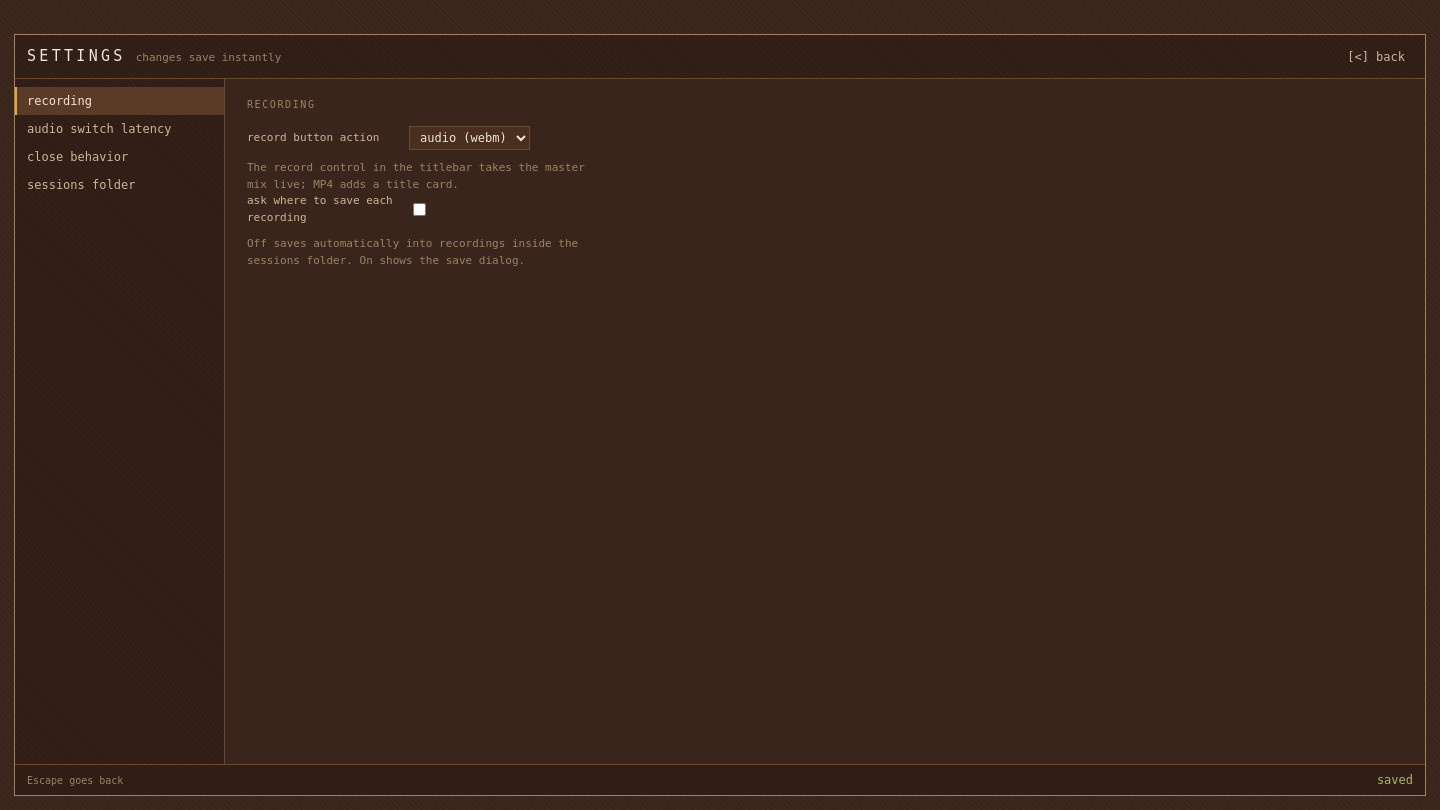
Test: SettingsPage › shows each section from its sidebar category
What coordinates should you click on to do the following:
click the button "audio switch latency"
I would click on:
 (120, 129)
Its box is [15,115,224,143].
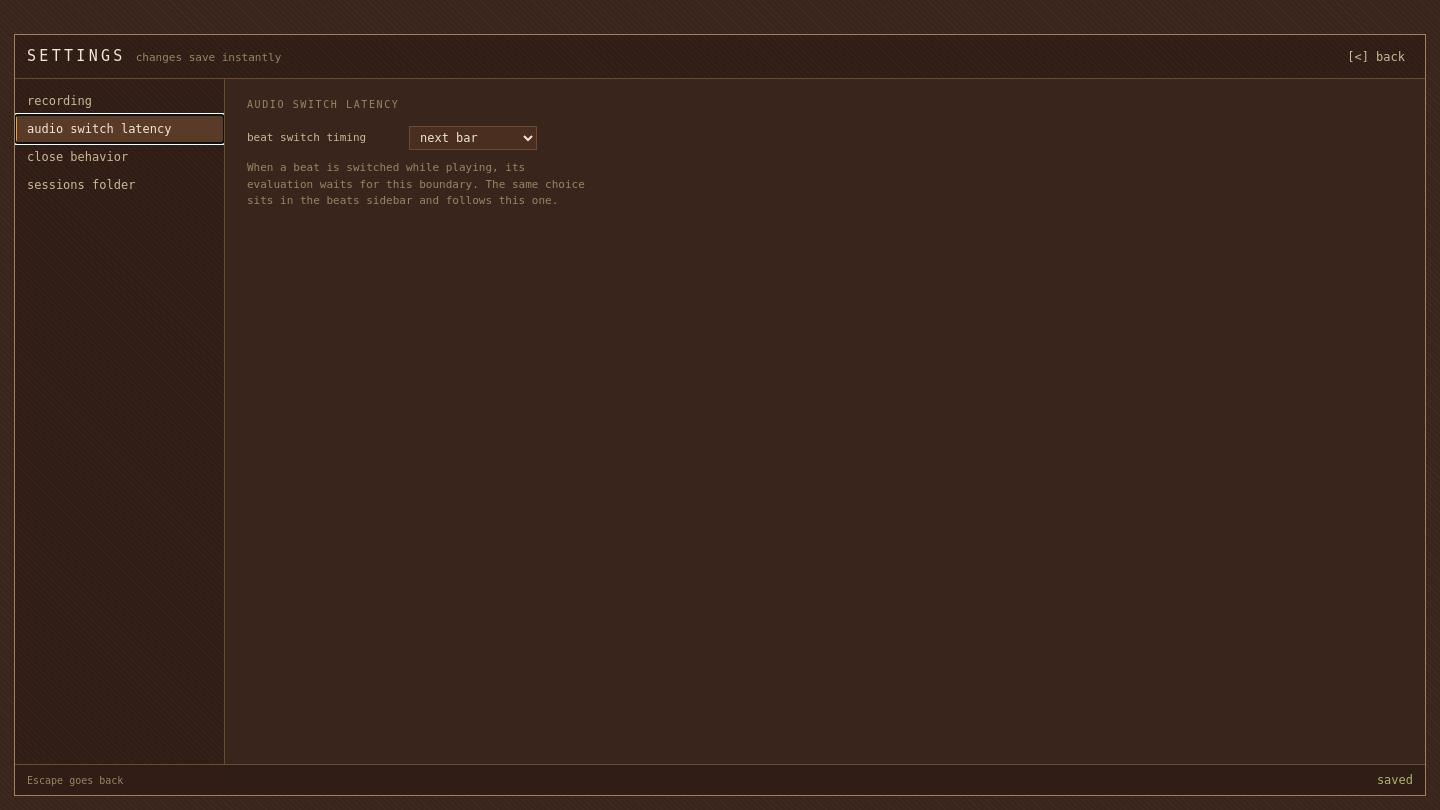
Result: the dropdown labelled "beat switch timing" is shown at [409,126,537,150]
What coordinates should you click on to do the following:
click the button "close behavior"
I would click on:
 (120, 157)
Its box is [15,143,224,171].
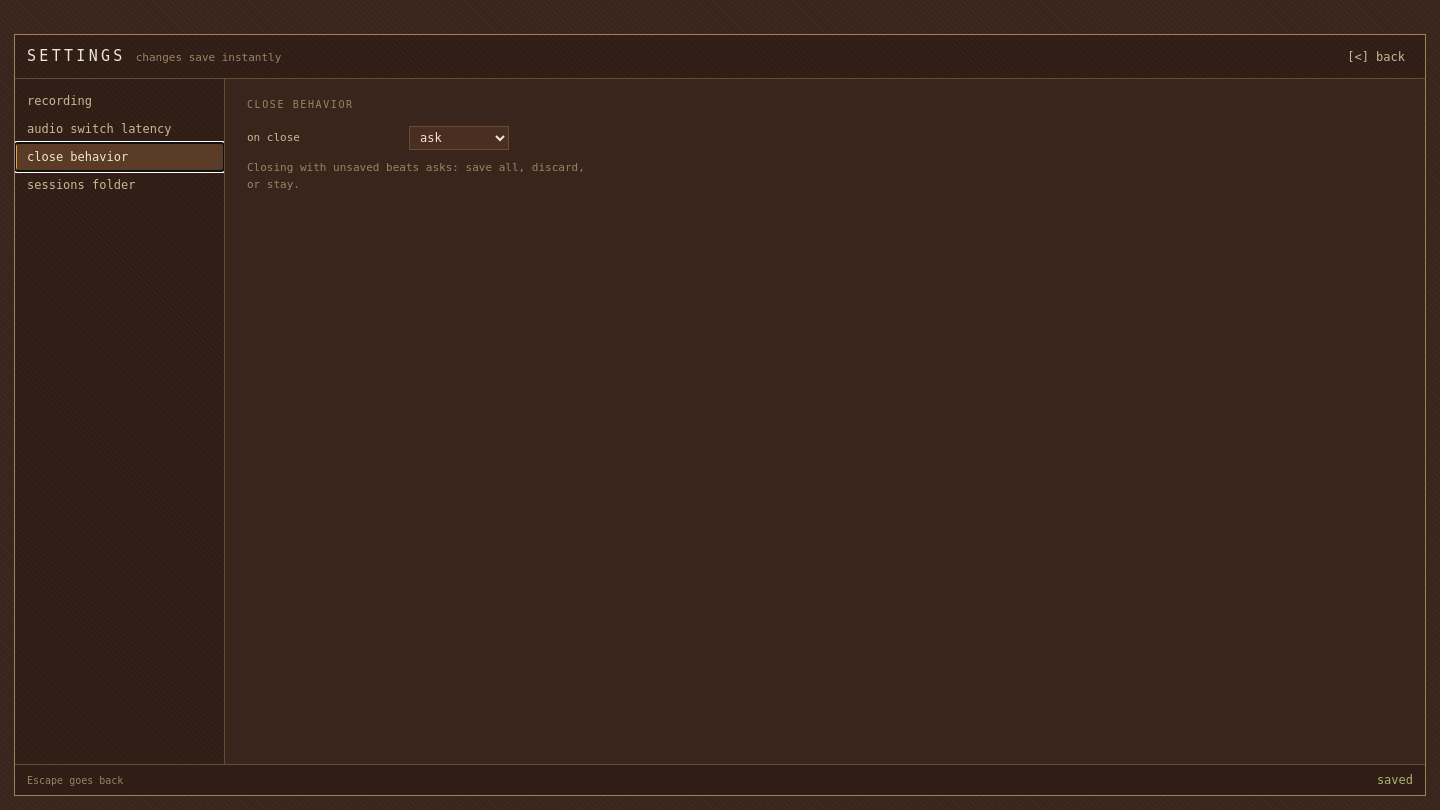
Result: the dropdown labelled "on close" is shown at [409,126,509,150]
What coordinates should you click on to do the following:
click the button "sessions folder"
I would click on:
 (120, 185)
Its box is [15,171,224,199].
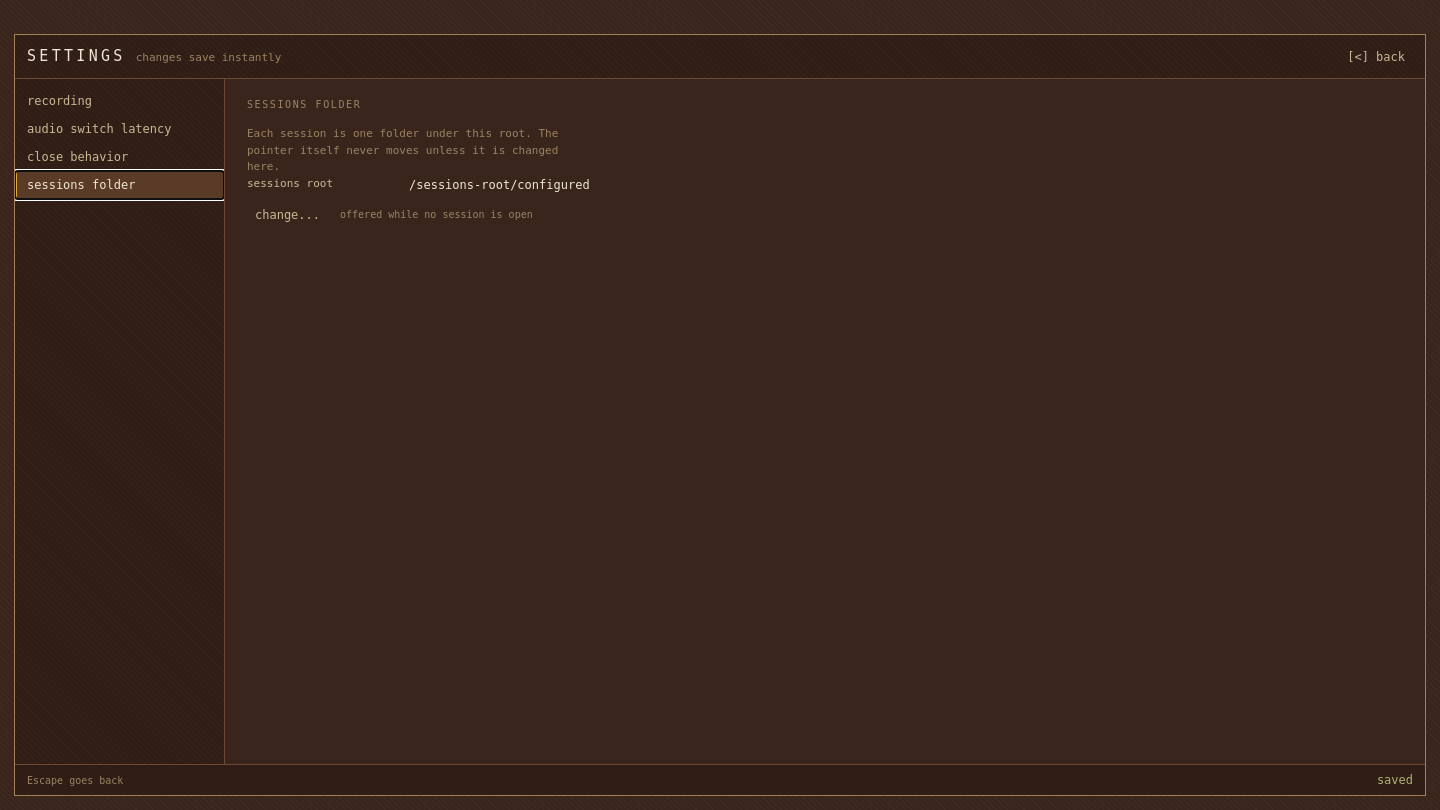
Result: the text "sessions root" is shown at [247,177,333,190]
